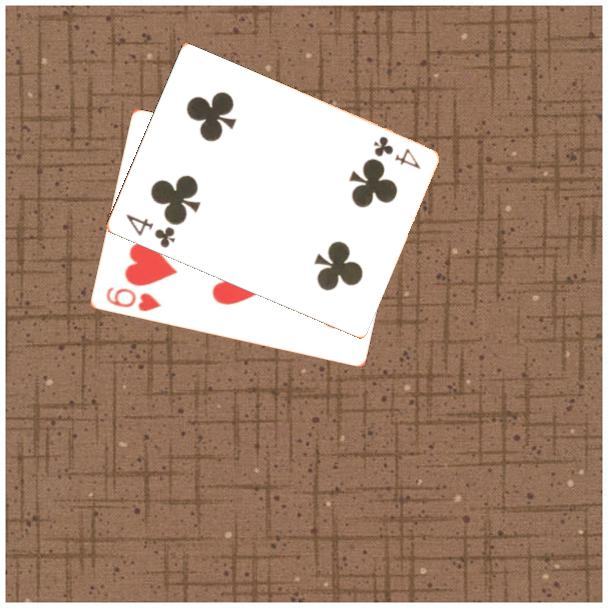c04: (122, 210, 178, 251), (369, 133, 423, 172)
h06: (102, 284, 164, 315)
